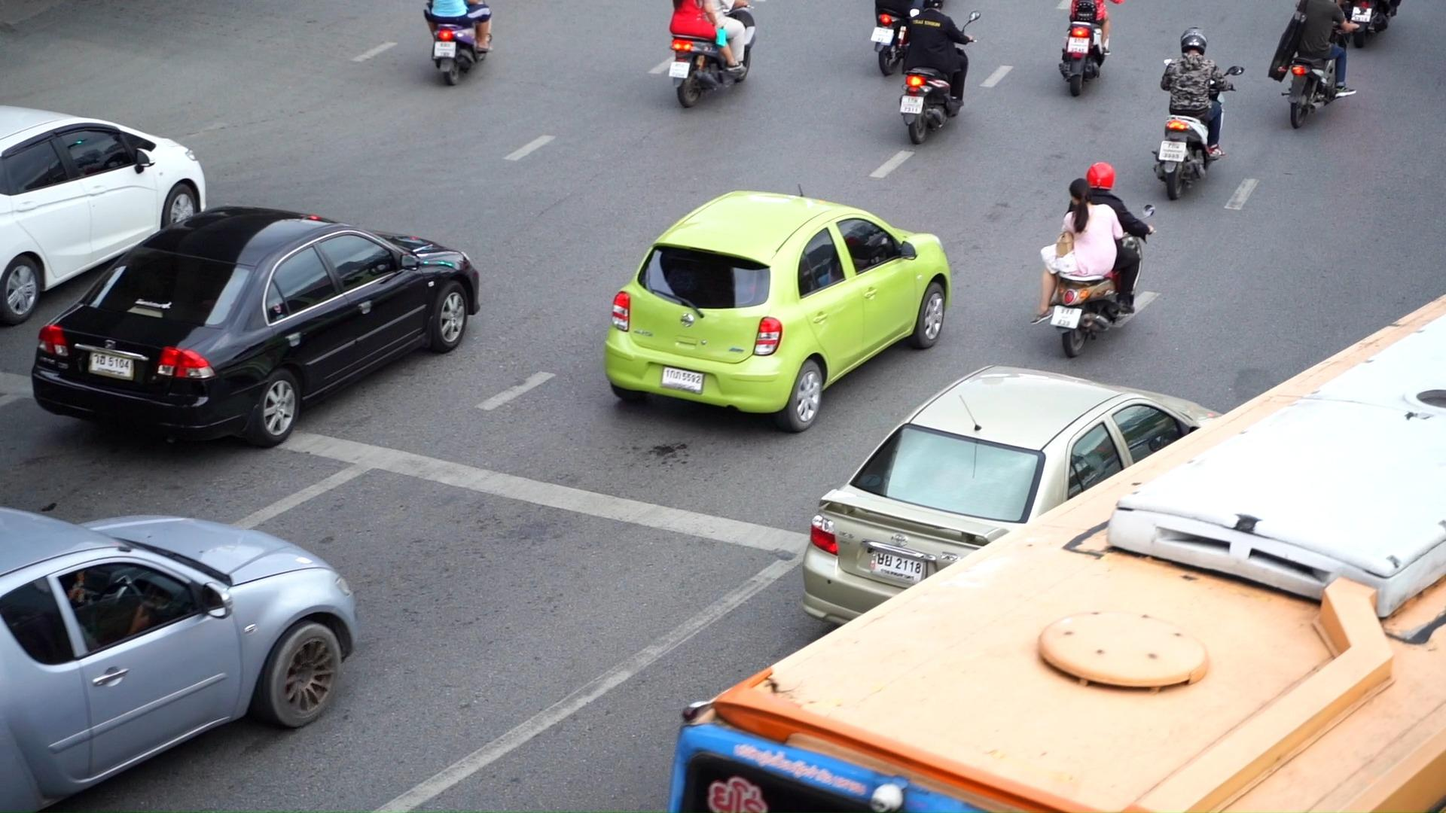driver: (1030, 162, 1156, 358), (1151, 26, 1244, 201), (1267, 0, 1366, 128), (900, 0, 980, 145), (669, 0, 756, 108), (1058, 0, 1126, 97), (423, 0, 494, 86)
helmet: (1181, 26, 1208, 56), (1087, 162, 1115, 190)
no-helmet: (1069, 178, 1092, 205)
